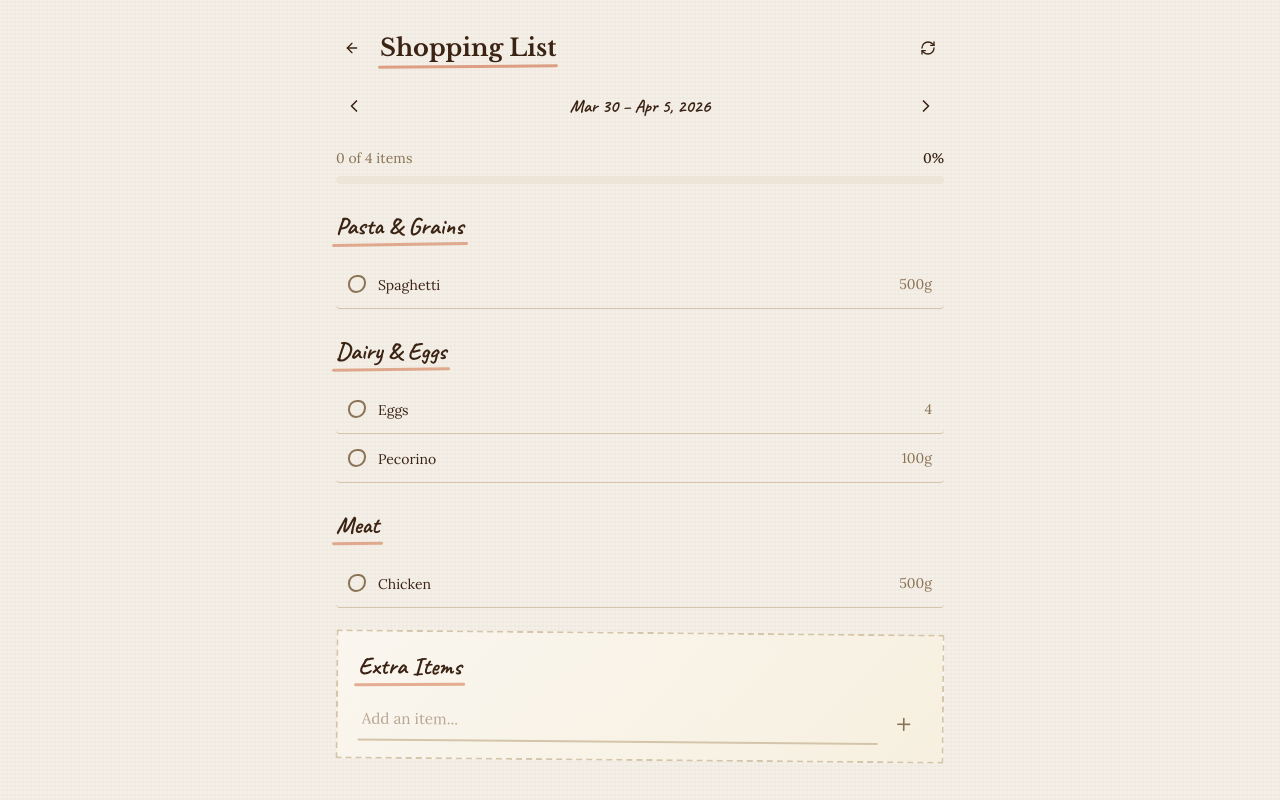
Test: Shopping List › S2: confirms before unchecking all when more than 3 items are checked
// Check 4 items
Click the text "Spaghetti": x=409, y=285 [378, 276, 440, 294]
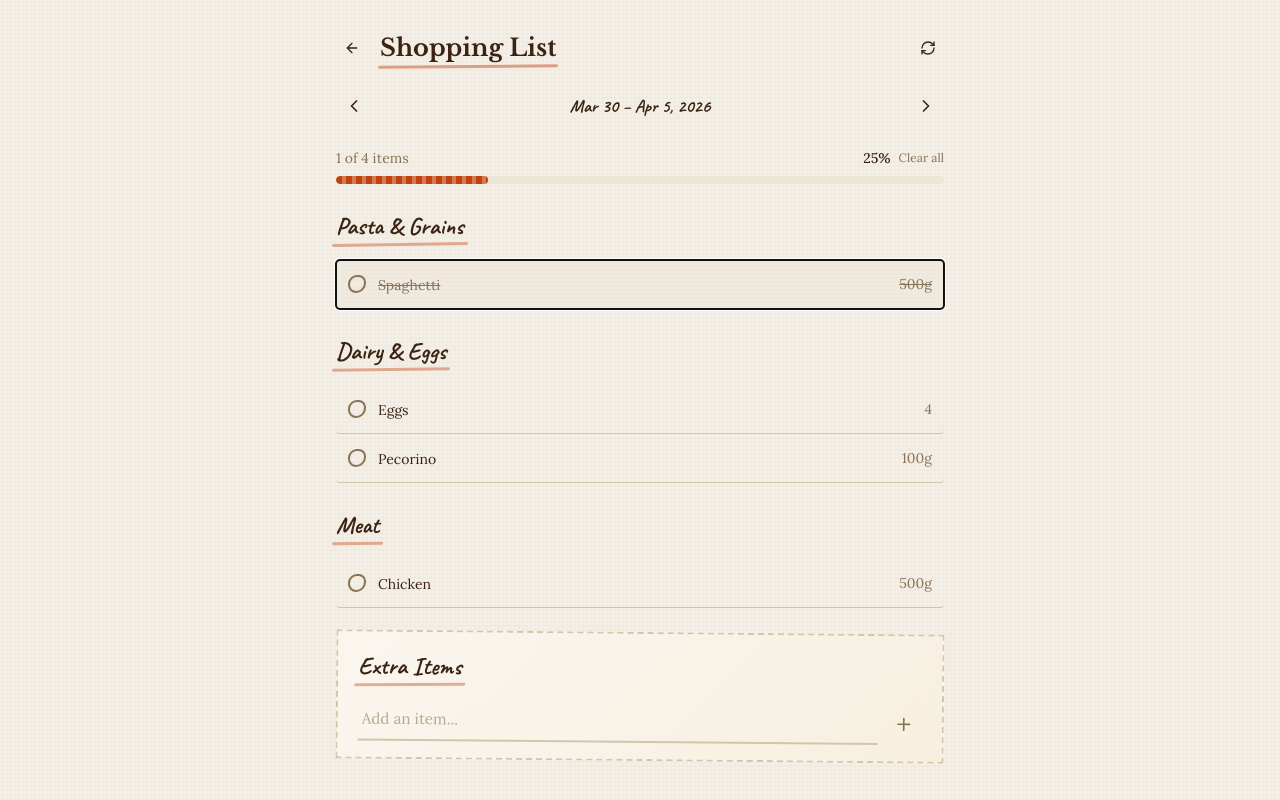
Click the text "Eggs": x=393, y=410 [378, 401, 409, 419]
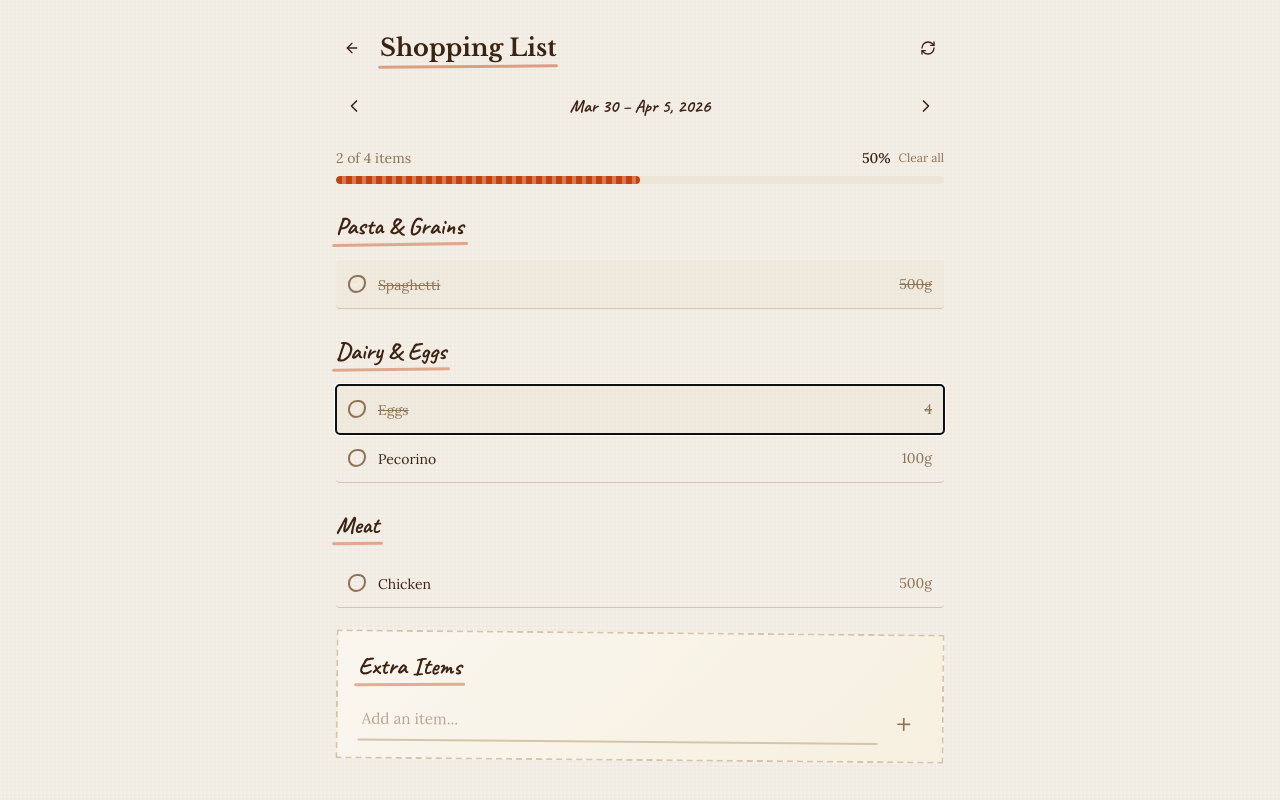
Click the text "Pecorino": x=407, y=459 [378, 450, 436, 468]
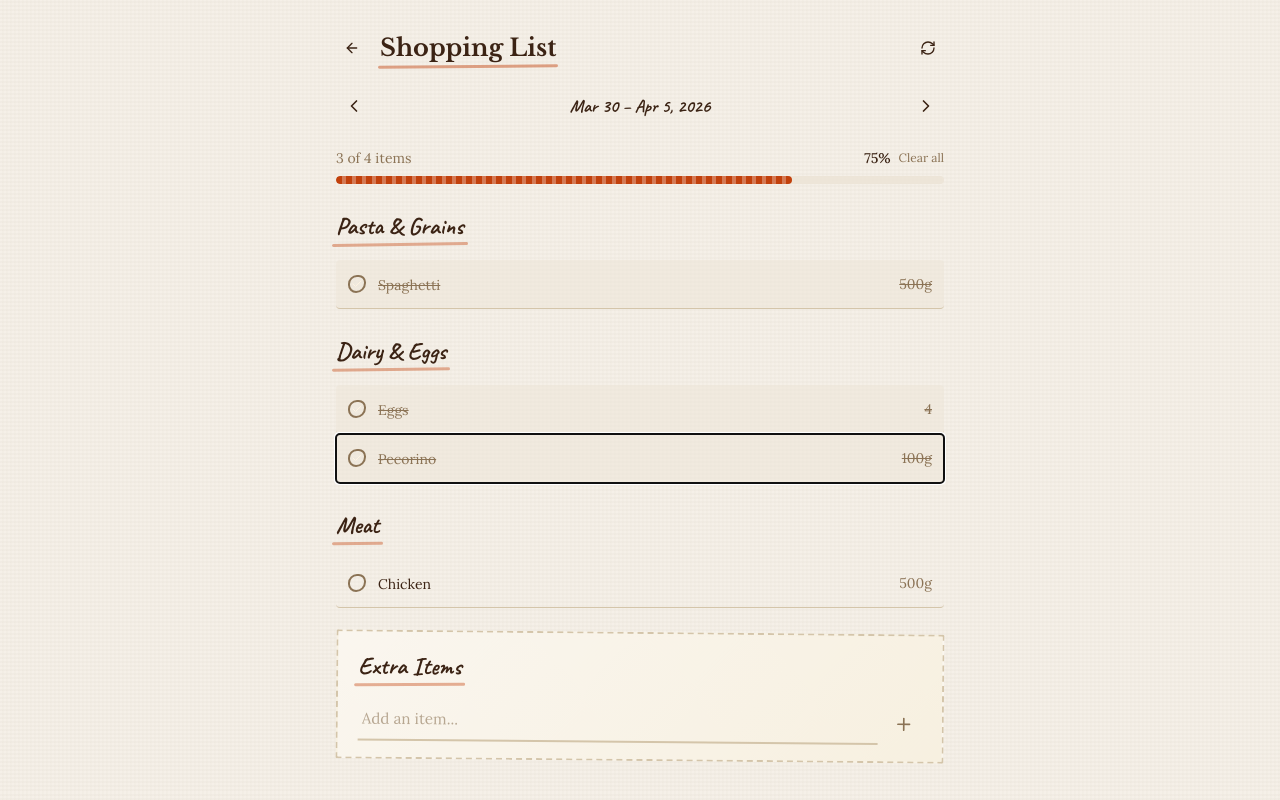
Click the text "Chicken": x=405, y=584 [378, 575, 431, 593]
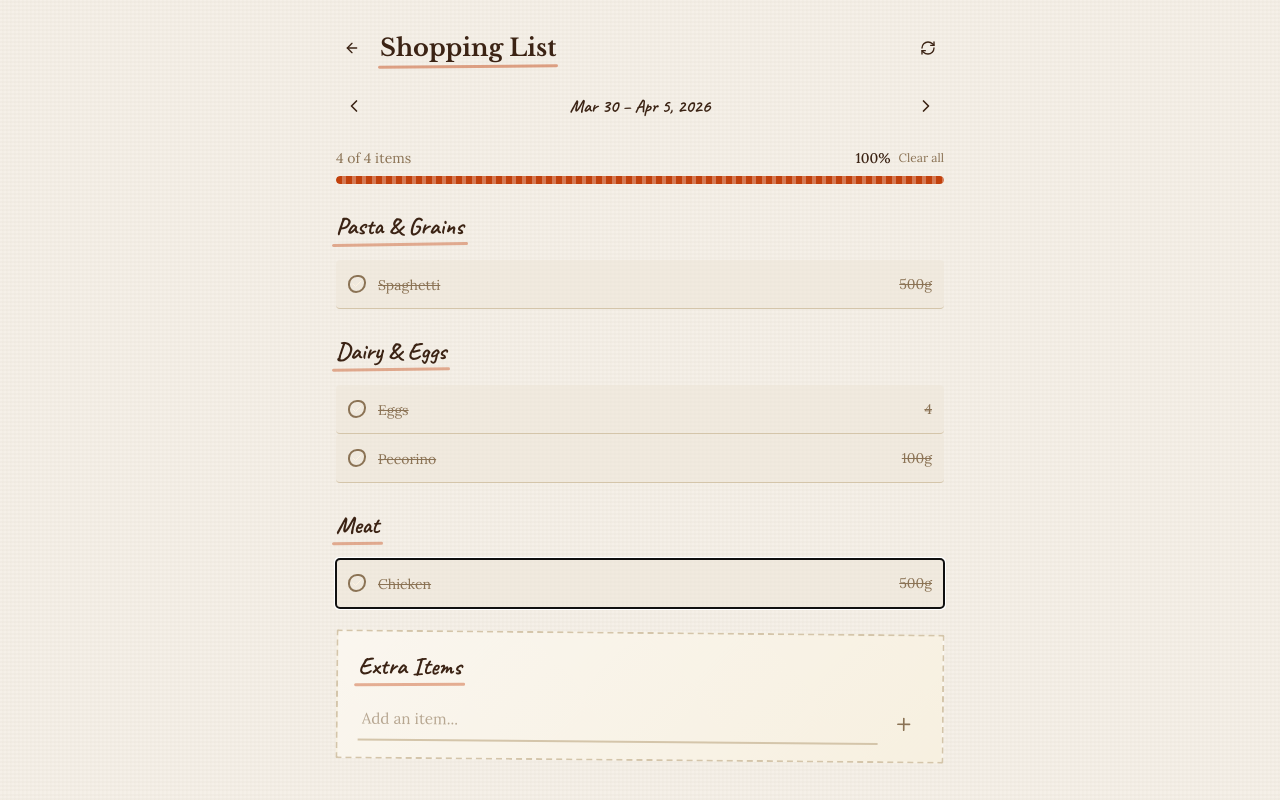
Click the button "Clear all": x=921, y=158 [899, 150, 944, 166]
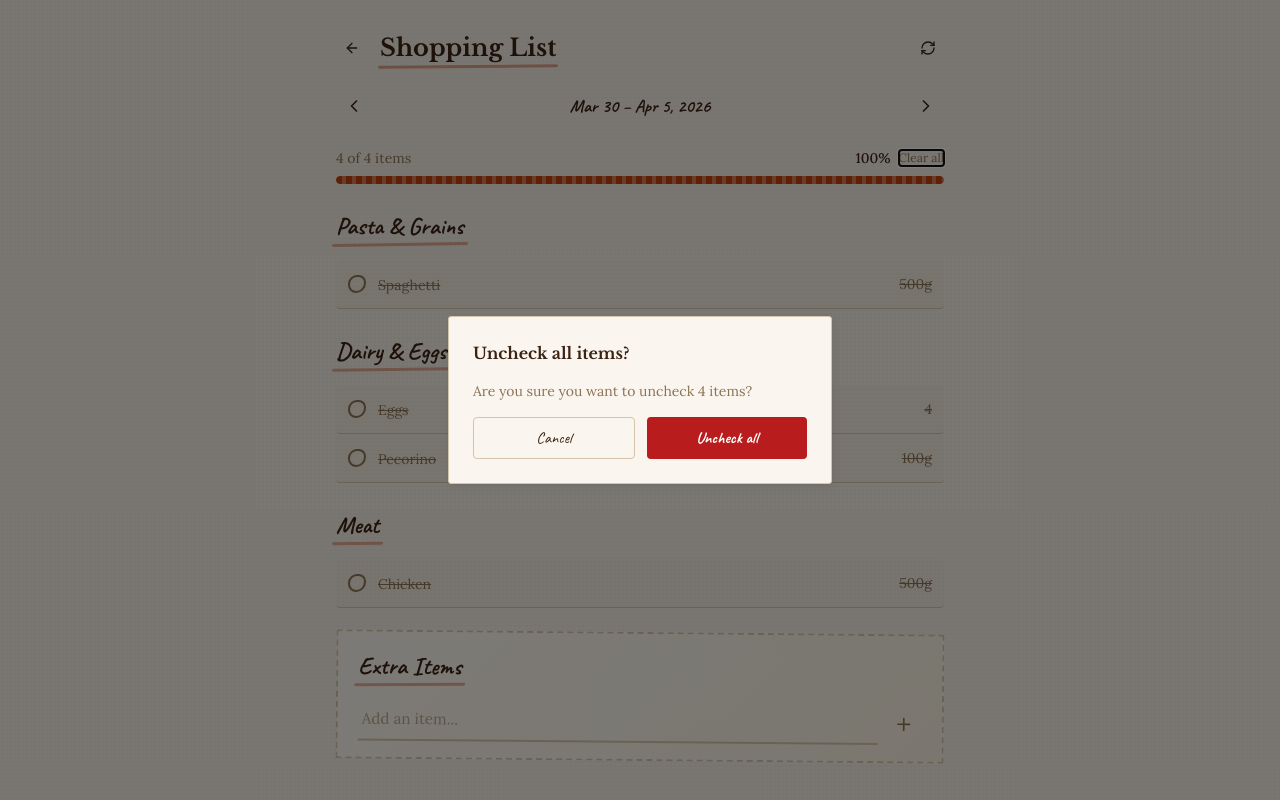
Expected: the text "Are you sure you want to uncheck 4 items?" is shown, [473, 382, 752, 400]
